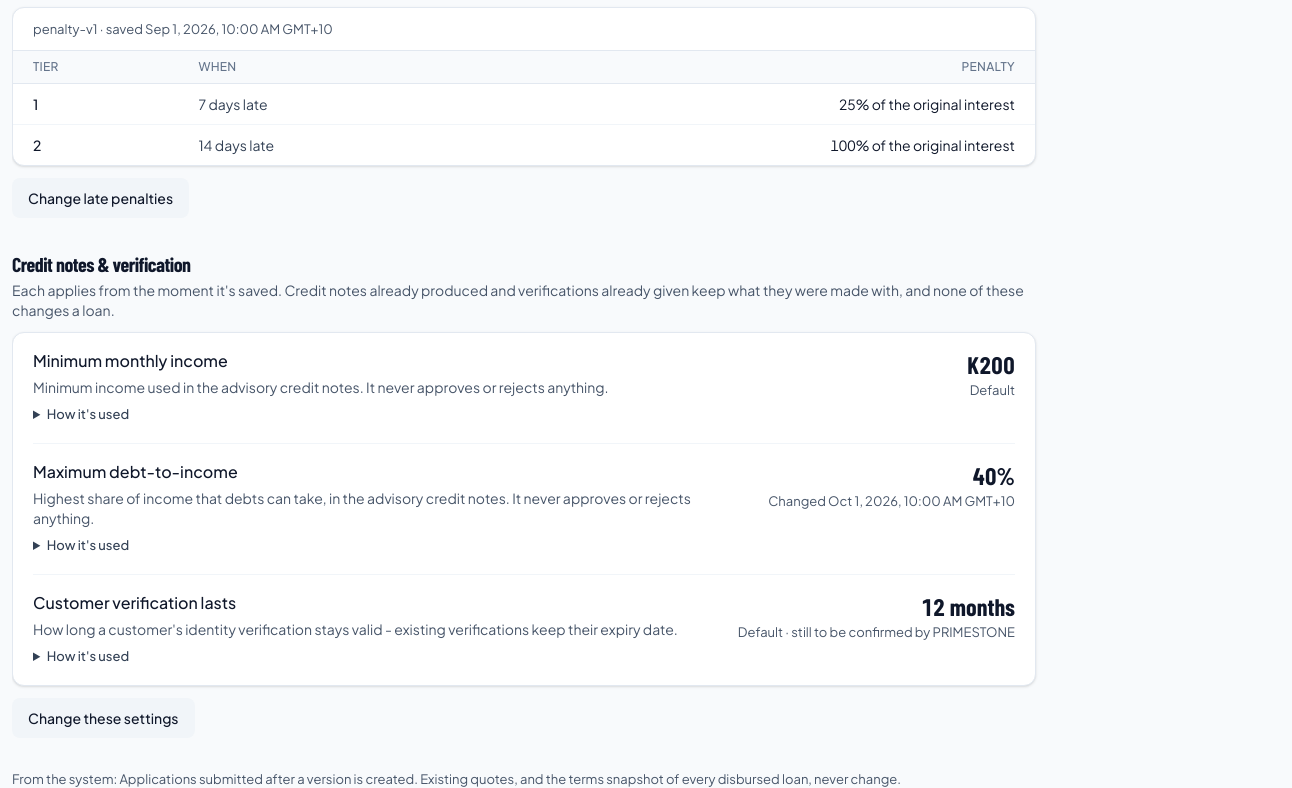
it: Parameter management › opens the settings editor from the page
(page scrolled)
Click the button "Change these settings" at (103, 718), box 12,698 -> 194,738
(page scrolled)
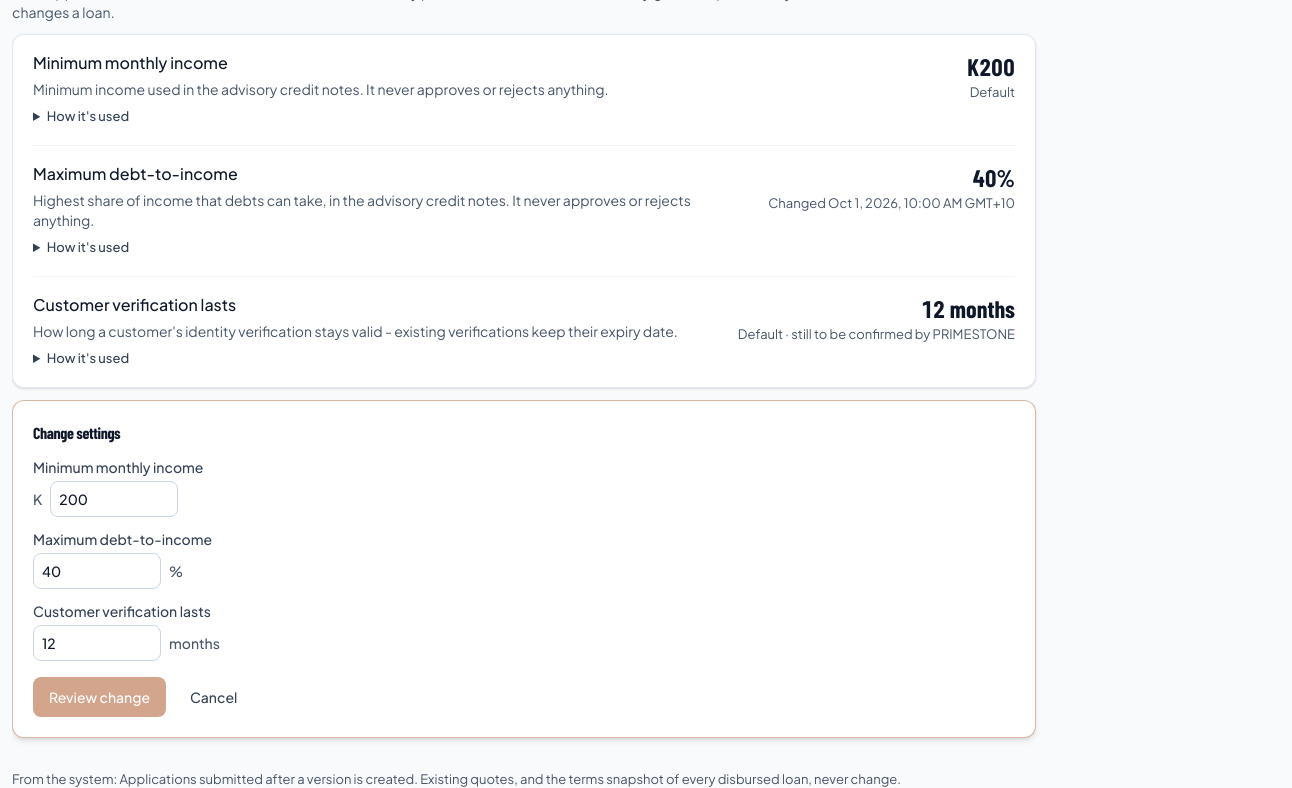
Result: the heading "Change settings" is shown at 33,423 -> 120,442
Result: the field labelled "Minimum monthly income K" holds "200" at 50,481 -> 178,517
